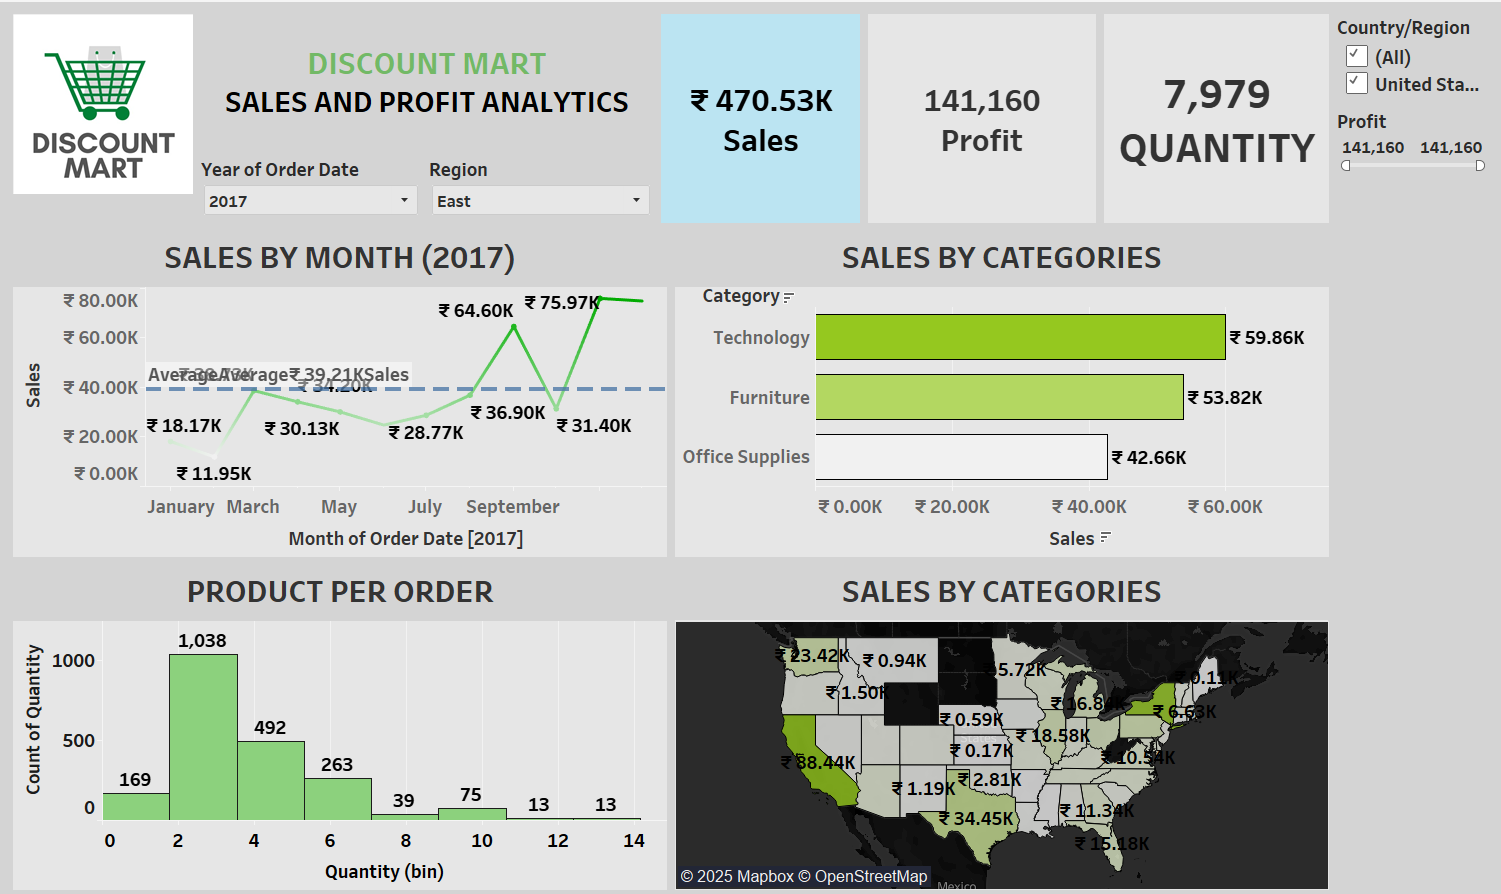

What the dashboard file says about the page in this screenshot:
{"tool":"tableau","page":{"name":"Dashboard 1","canvas":[1500,900],"ordinal":0},"visuals":[{"type":"image","param":"Image/WhatsApp Image 2024-04-03 at 12.52.04 PM.jpeg","box":[8,8,188.2,217]},{"type":"text","box":[196.2,8,459.8,142]},{"type":"worksheet","title":"QUANTITY CARD (2)","mark":"Automatic","box":[656,8,207,217]},{"type":"worksheet","title":"PROFIT CARD","mark":"Automatic","box":[863,8,236,217]},{"type":"worksheet","title":"QUANTITY CARD","mark":"Automatic","box":[1099,8,233,217]},{"type":"filter","title":"SALES BY MAP","param":"[federated.0hzfu6t1whnwd91flwjy51vehb4y].[none:Country/Region:nk]","box":[1332,8,160,94]},{"type":"filter","title":"PROFIT CARD","param":"[federated.0hzfu6t1whnwd91flwjy51vehb4y].[sum:Calculation_106397544706293760:qk]","box":[1332,102,160,77]},{"type":"filter","title":"sales by month","param":"[federated.0hzfu6t1whnwd91flwjy51vehb4y].[yr:Order Date:ok]","box":[196.2,150,227.8,75]},{"type":"filter","title":"SALES BY CATEGORY","param":"[federated.0hzfu6t1whnwd91flwjy51vehb4y].[none:Region:nk]","box":[424,150,232,75]},{"type":"worksheet","title":"sales by month","mark":"Automatic","rows":["Sales"],"cols":["Order Date"],"box":[8,225,662,333.5]},{"type":"worksheet","title":"SALES BY CATEGORY","mark":"Automatic","rows":["Category"],"cols":["Sales"],"box":[670,225,662,333.5]},{"type":"worksheet","title":"SALES BY PRODUCT)","mark":"Automatic","rows":["Quantity"],"cols":["Quantity (bin)"],"box":[8,558.5,662,333.5]},{"type":"worksheet","title":"SALES BY MAP","mark":"Automatic","box":[670,558.5,662,333.5]}]}

Visuals, with their boxes in screenshot pixels (x1, y1, x2, y2), scaled from the page's 1500x900 canvas onto the 1501x894 screenshot:
image: rect(8, 8, 196, 224)
text: rect(196, 8, 656, 149)
"QUANTITY CARD (2)" worksheet: rect(656, 8, 864, 224)
"PROFIT CARD" worksheet: rect(864, 8, 1100, 224)
"QUANTITY CARD" worksheet: rect(1100, 8, 1333, 224)
"SALES BY MAP" filter: rect(1333, 8, 1493, 101)
"PROFIT CARD" filter: rect(1333, 101, 1493, 178)
"sales by month" filter: rect(196, 149, 424, 224)
"SALES BY CATEGORY" filter: rect(424, 149, 656, 224)
"sales by month" worksheet: rect(8, 224, 670, 555)
"SALES BY CATEGORY" worksheet: rect(670, 224, 1333, 555)
"SALES BY PRODUCT)" worksheet: rect(8, 555, 670, 886)
"SALES BY MAP" worksheet: rect(670, 555, 1333, 886)
